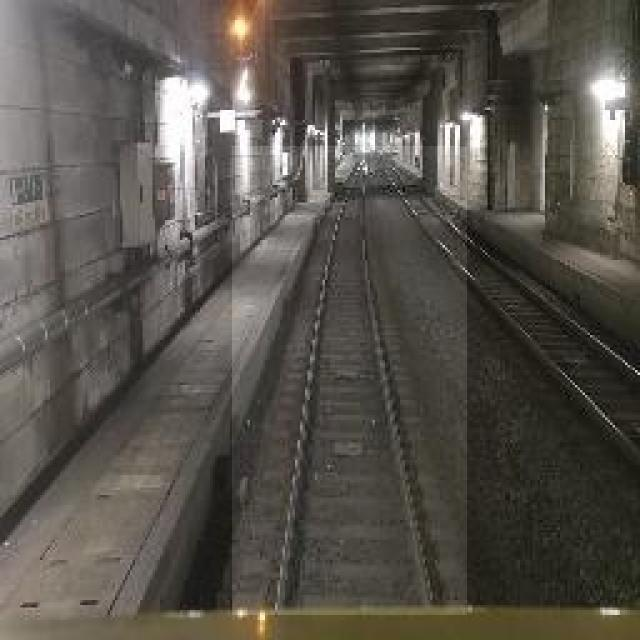rail: (233, 147, 468, 616)
